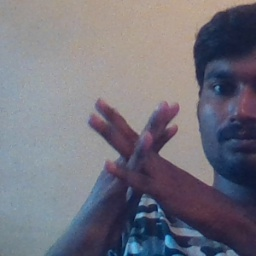W: (72, 89, 207, 239)
